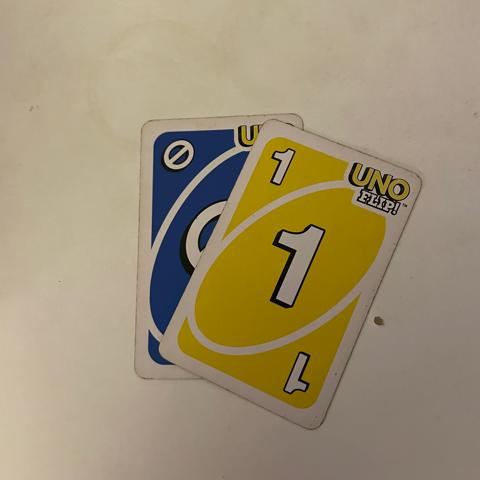lblueskip-20: (151, 130, 203, 185)
lyellow-1: (261, 137, 305, 199)
